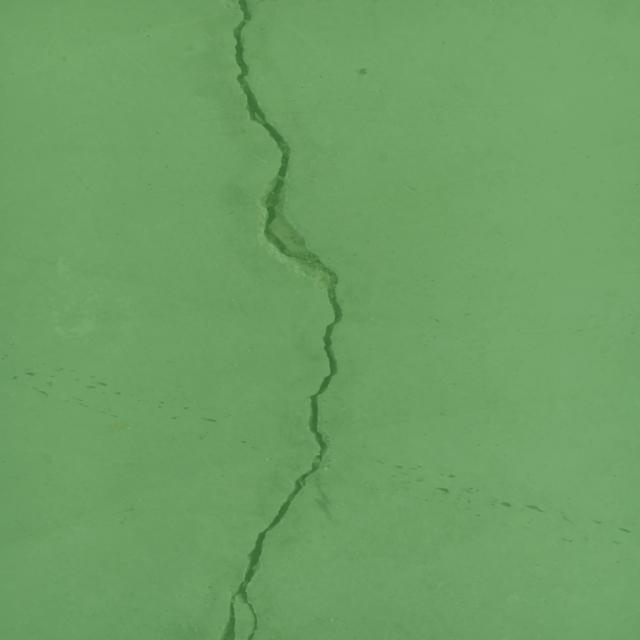crack: (220, 0, 344, 640)
